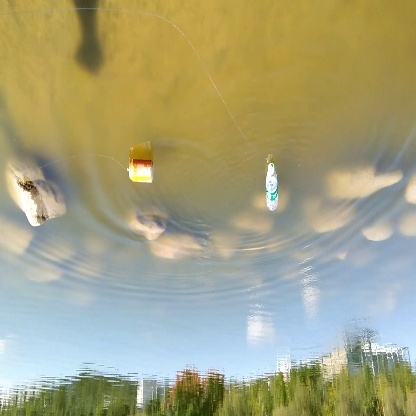bottle: (264, 164, 288, 217), (122, 155, 161, 187)
